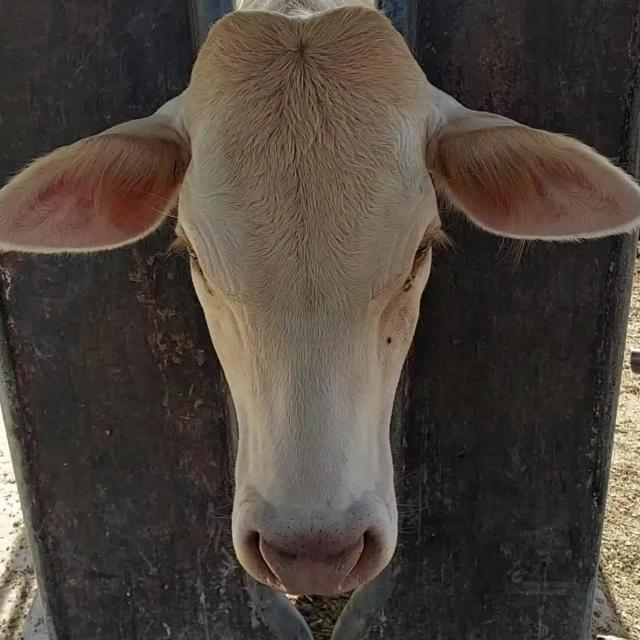cowFace: (175, 13, 437, 590)
